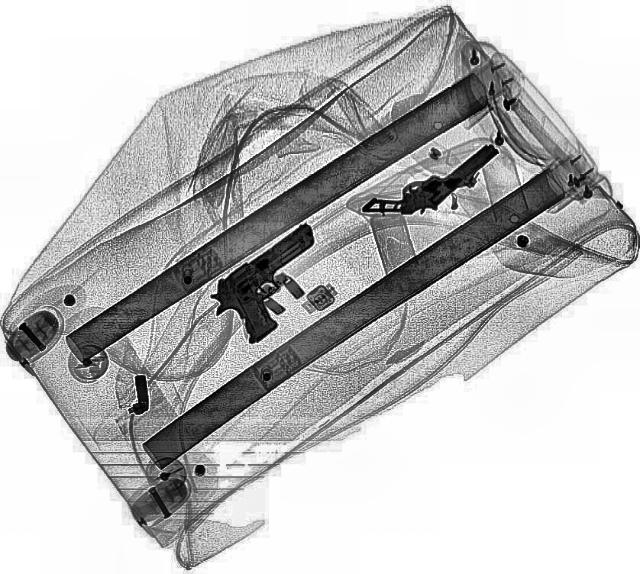Gun: (192, 220, 358, 348), (358, 120, 499, 238)
